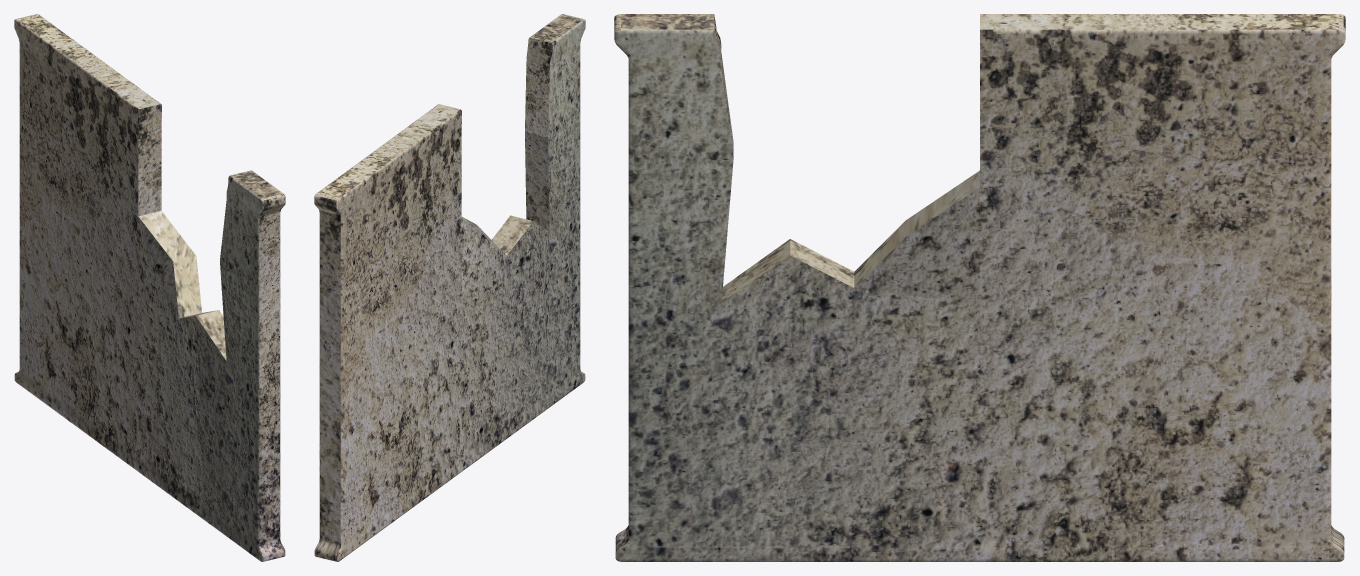
Rendered from Wall_Broken.fbx.
3 renders of one model, left to right at view 1: azimuth 30°, elevation 25°; view 2: azimuth 150°, elevation 25°; view 3: azimuth 270°, elevation 25°, orthographic. The views are drawn at different scales.
Visible parts, largest first — view 1: Wall_Broken; view 2: Wall_Broken; view 3: Wall_Broken.
Part boxes in pixels (box(x1,y1,x2,y2)): Wall_Broken: box(14, 14, 285, 561); Wall_Broken: box(314, 14, 585, 561); Wall_Broken: box(614, 14, 1345, 561).
Bounding box in the file's own units: 169 × 1456 × 1813.
1 material, 1 textured.
